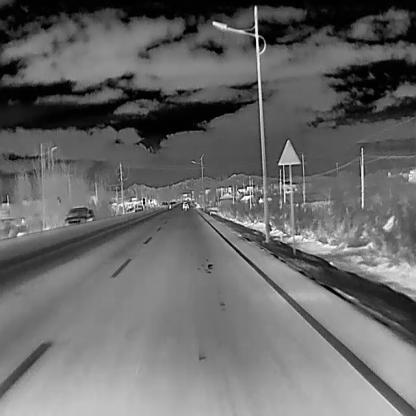car: (63, 206, 96, 226), (182, 201, 188, 209), (162, 201, 165, 207), (165, 201, 167, 207)
